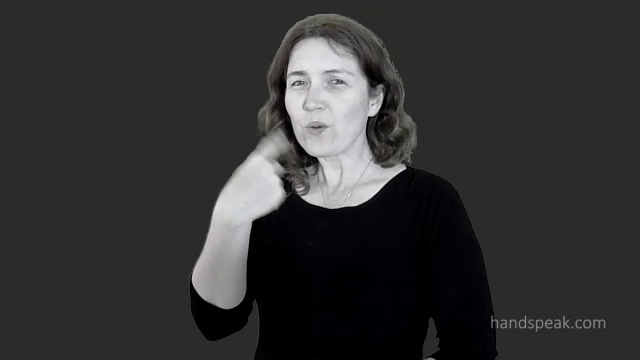who: (203, 127, 312, 236)
